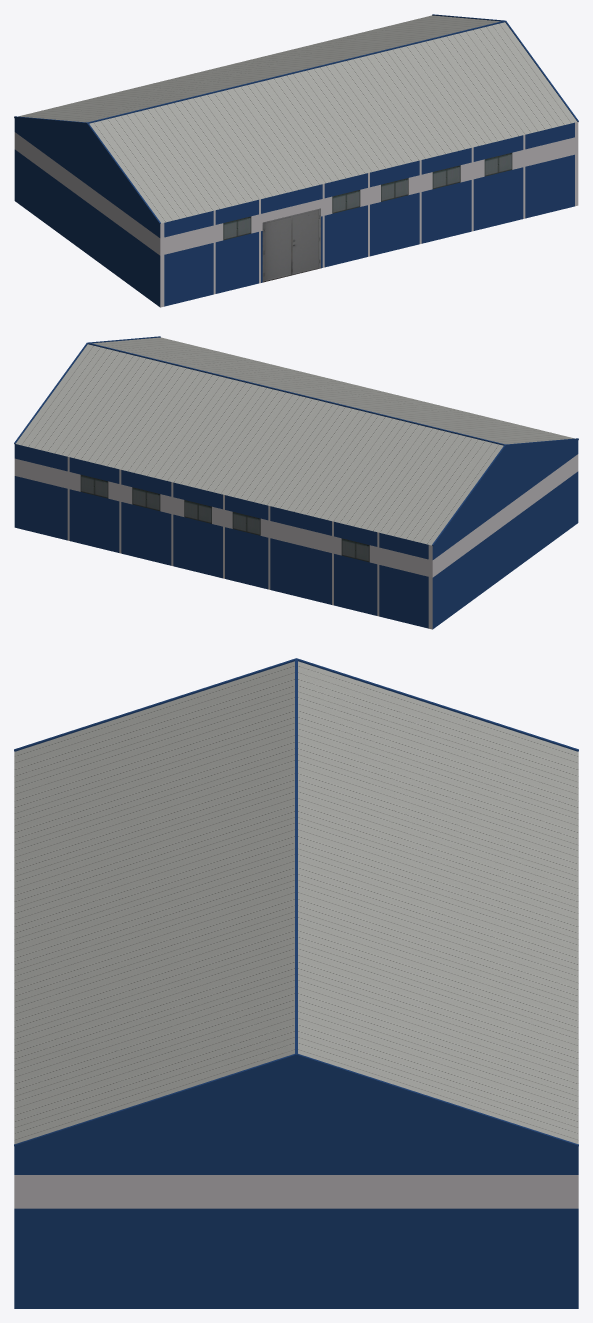
File: Demo6.gltf
3 views of the same model, one above another, from view 1: azimuth 30°, elevation 25°; view 2: azimuth 150°, elevation 25°; view 3: azimuth 270°, elevation 25° (orthographic). The views are drawn at different scales.
Parts seen in each view (by area): view 1: changfang_2; view 2: changfang_2; view 3: changfang_2.
Boxes of the visible parts, x1,y1,x2,y2 form: changfang_2: (14,14,578,307); changfang_2: (14,336,578,629); changfang_2: (14,658,578,1308).
Bounding box in the file's own units: 31.55 × 9.46 × 19.
Materials: 5 (5 with a texture image).
